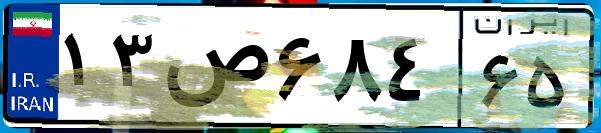1: (57, 26, 110, 100)
3: (110, 28, 158, 98)
4: (385, 28, 445, 110)
5: (525, 38, 570, 115)
6: (270, 28, 330, 110), (475, 38, 525, 113)
8: (330, 28, 385, 110)
ص: (158, 20, 270, 120)
